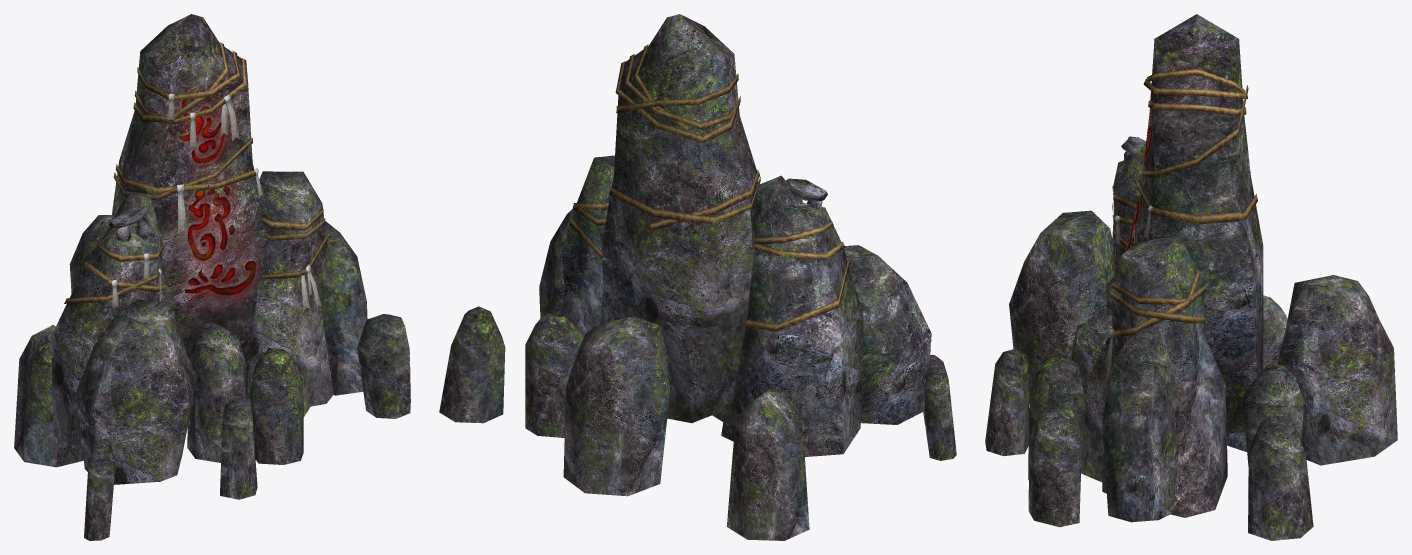
Rendered from cairn_01_00_re.glb.
The picture shows the model from 3 angles, left to right: view 1: azimuth 30°, elevation 25°; view 2: azimuth 150°, elevation 25°; view 3: azimuth 270°, elevation 25°; orthographic projection. The views are drawn at different scales.
Parts seen in each view (by area): view 1: cairn_01_00; view 2: cairn_01_00; view 3: cairn_01_00.
Part boxes in pixels (x1,y1,x2,y2): cairn_01_00: (14,14,410,540); cairn_01_00: (439,14,956,540); cairn_01_00: (985,14,1397,540).
Size of the model in its own units: 31.3 by 35.22 by 27.41.
1 material, 1 textured.
